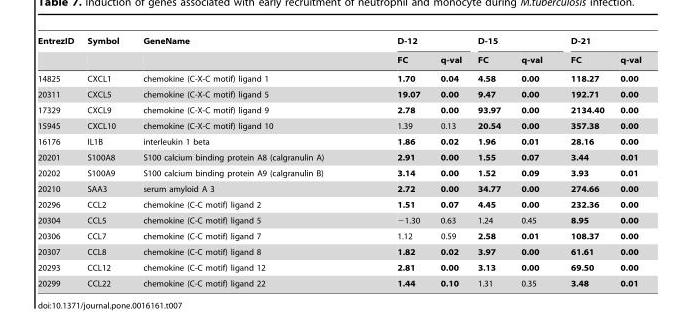table: (37, 36, 640, 287)
table column: (130, 36, 359, 287), (359, 36, 429, 287), (555, 36, 611, 287), (79, 36, 130, 287), (510, 36, 555, 287), (37, 36, 79, 287), (469, 36, 510, 287), (429, 36, 469, 287), (611, 36, 640, 287)
table column header: (37, 36, 640, 69)
table row: (37, 50, 640, 69), (37, 69, 640, 86), (37, 86, 640, 102), (37, 117, 640, 133), (37, 133, 640, 149), (37, 149, 640, 165), (37, 180, 640, 196), (37, 196, 640, 212), (37, 212, 640, 228), (37, 243, 640, 259), (37, 259, 640, 275), (37, 102, 640, 117), (37, 165, 640, 180), (37, 228, 640, 243), (37, 36, 640, 50), (37, 275, 640, 287)
table spanning cell: (130, 36, 359, 69), (79, 36, 130, 69), (359, 36, 469, 50), (37, 36, 79, 69), (469, 36, 555, 50), (555, 36, 640, 50)
